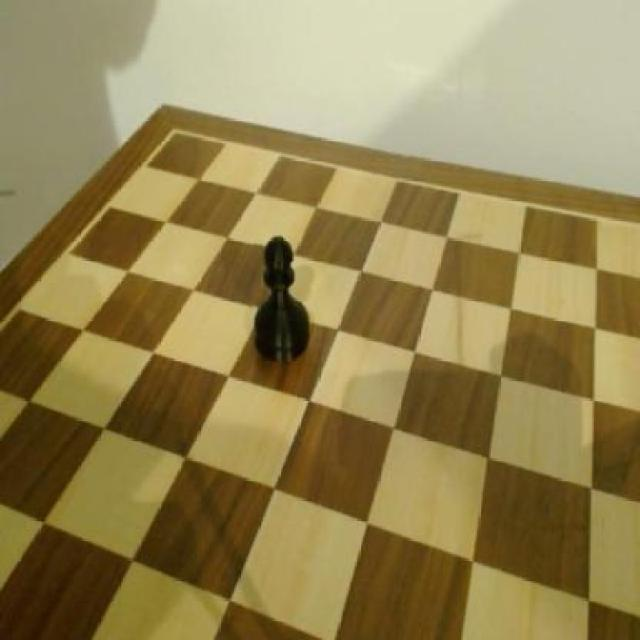black-knight: (252, 230, 314, 368)
